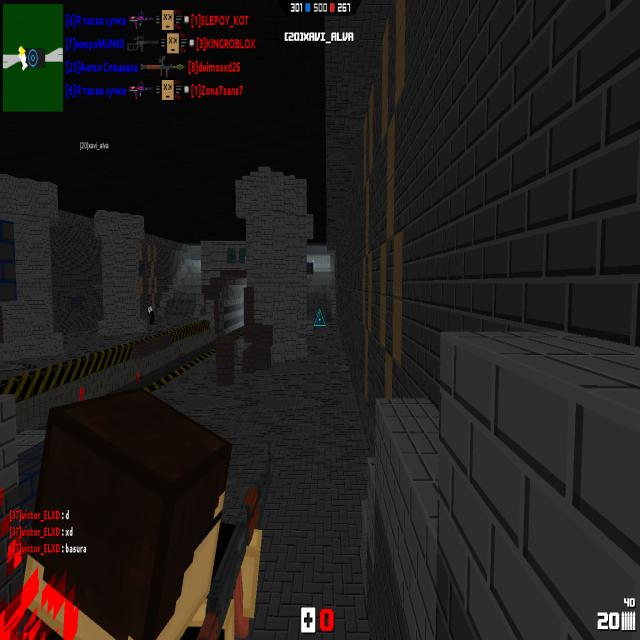enemy: (147, 305, 155, 326), (312, 260, 316, 272)
